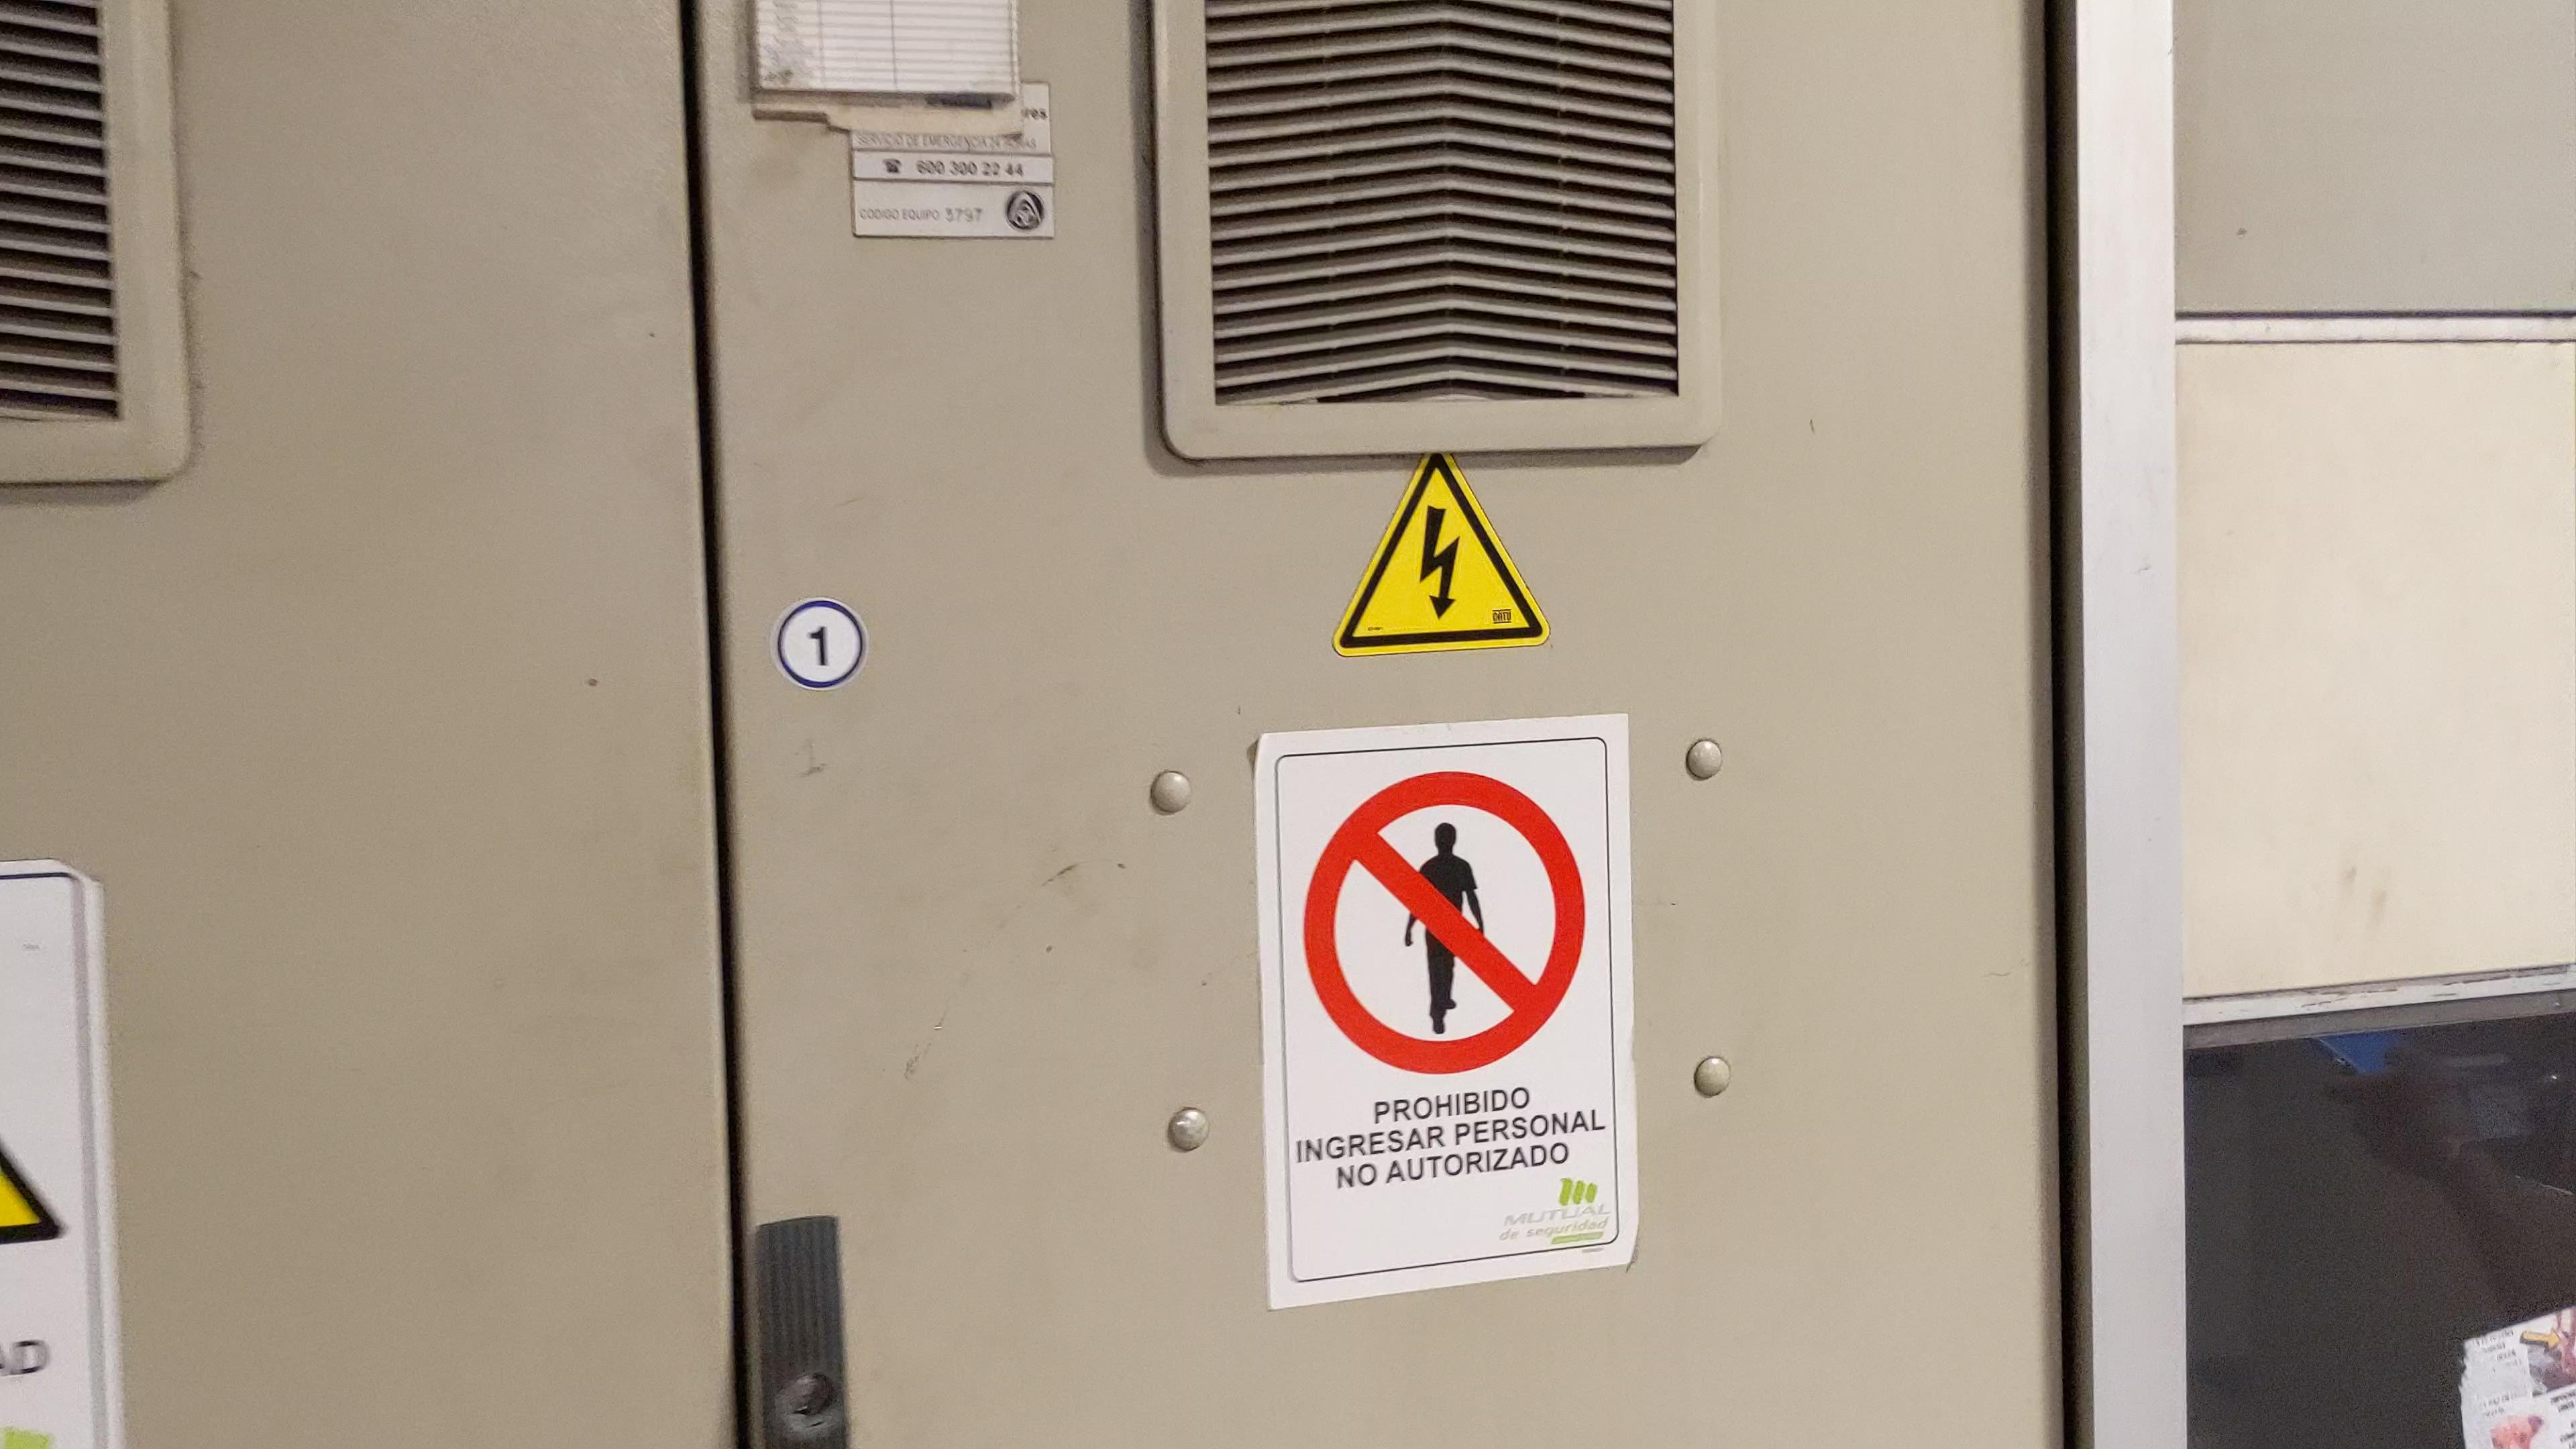danger-electricity: (1327, 451, 1555, 662)
